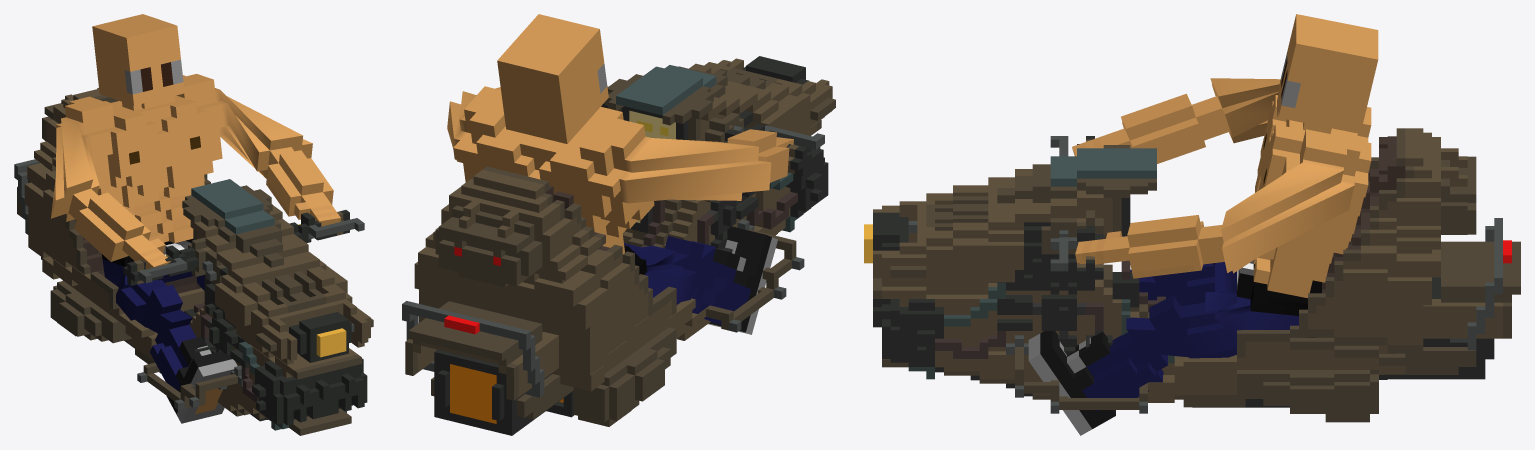
File: OnScooter.obj
3 renders of one model, left to right at view 1: azimuth 30°, elevation 25°; view 2: azimuth 150°, elevation 25°; view 3: azimuth 270°, elevation 25°, orthographic. The views are drawn at different scales.
Size of the model in its own units: 5.19 by 5.85 by 9.39.
2 materials, 2 textured.
